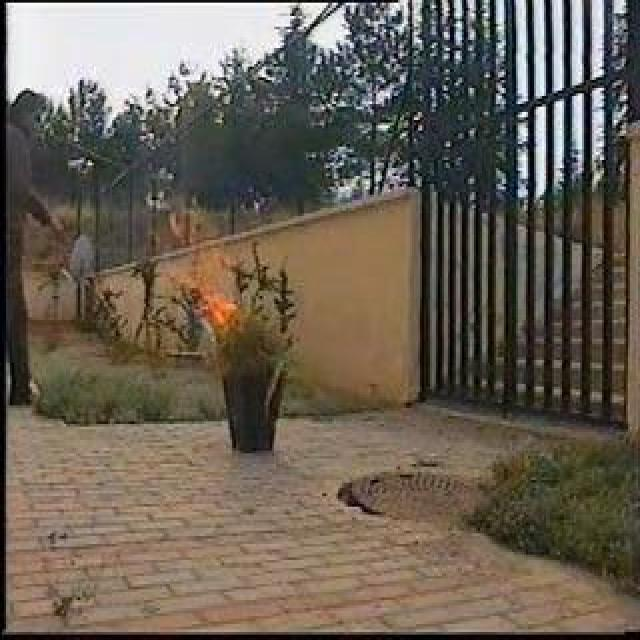fire: (158, 213, 230, 323)
